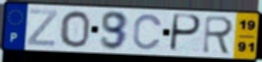9: (99, 10, 131, 52)
C: (131, 12, 164, 51)
O: (59, 10, 92, 49)
P: (167, 13, 203, 54)
R: (201, 14, 236, 56)
Z: (26, 8, 60, 48)
